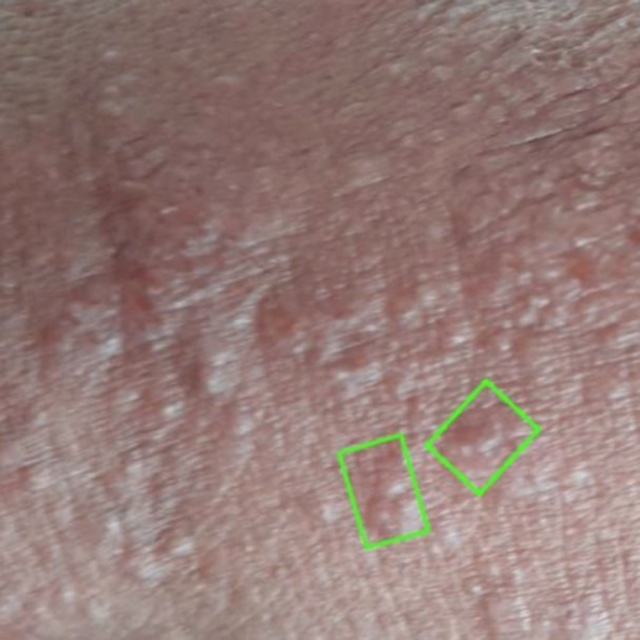Seborrheic Dermatitis: (425, 380, 538, 494), (338, 435, 427, 548)
